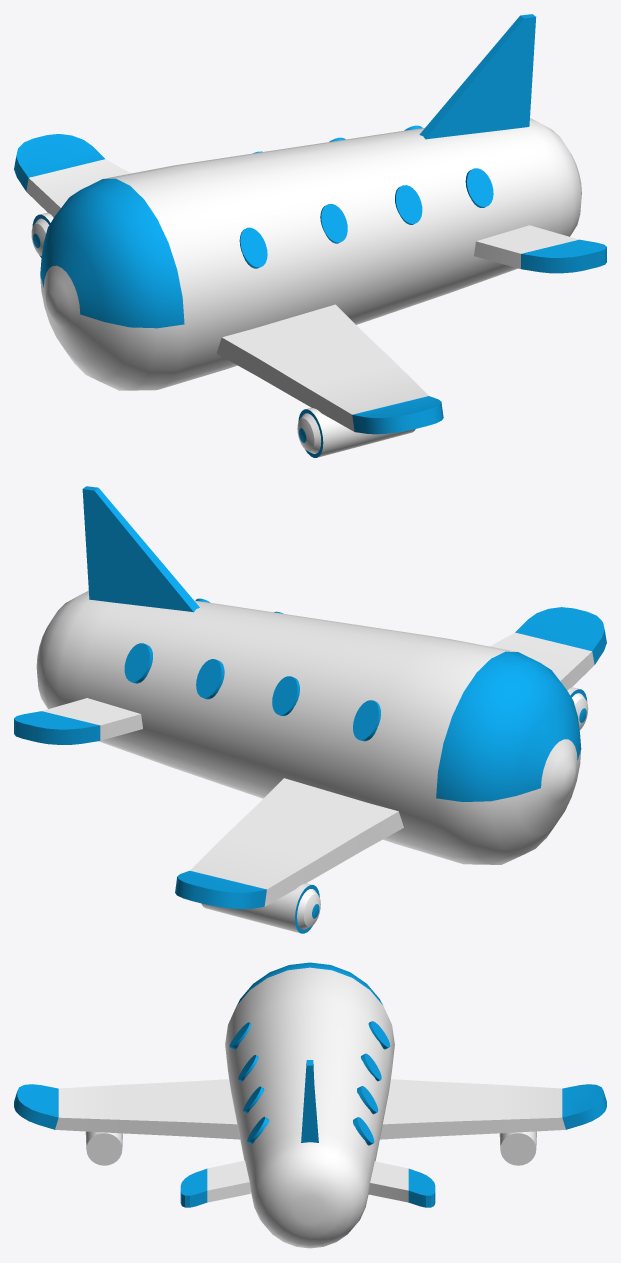
File: Airplane.fbx
The picture shows the model from 3 angles, top to bottom: view 1: azimuth 30°, elevation 25°; view 2: azimuth 150°, elevation 25°; view 3: azimuth 270°, elevation 25°; orthographic projection. The views are drawn at different scales.
Visible parts, largest first — view 1: Airplane; view 2: Airplane; view 3: Airplane.
Part boxes in pixels (left/top/right/bottom): Airplane: left=14, top=14, right=606, bottom=457; Airplane: left=14, top=486, right=606, bottom=933; Airplane: left=14, top=962, right=606, bottom=1248.
Size of the model in its own units: 19.08 by 9.6 by 24.5.
Materials: 1 (1 with a texture image).
